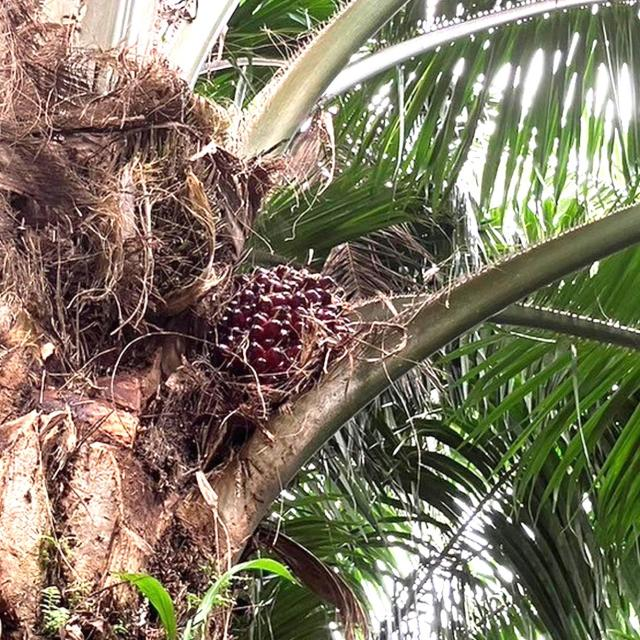ripe: (214, 264, 347, 394)
